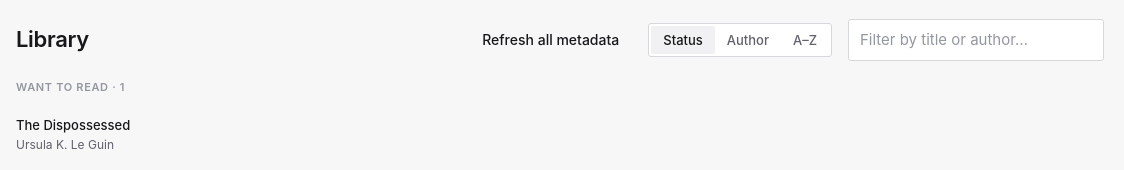
Test: Library › says so when the filter matches nothing
Check: the button "The Dispossessed Ursula K. Le Guin" is shown, box [16,107,158,154]
Type "zzzz" into the field named "Filter library". click: (976, 40)
box: [848,19,1104,61]
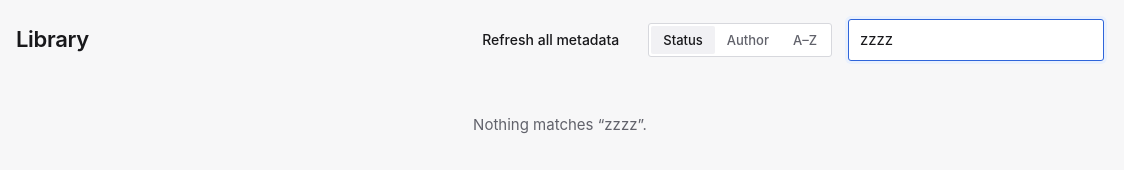
Check: the text "Nothing matches “zzzz”." is shown, box [473,115,647,134]
